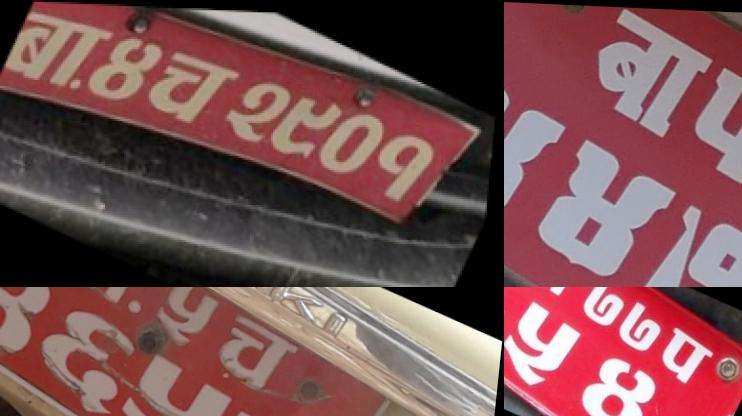0: (316, 92, 394, 183)
1: (361, 114, 449, 212)
2: (212, 61, 298, 156)
4: (514, 116, 703, 287), (504, 52, 587, 233), (86, 24, 168, 113), (0, 287, 74, 371), (575, 349, 667, 416)
5: (665, 49, 742, 197), (105, 338, 247, 416), (504, 296, 589, 395), (140, 287, 233, 354)
6: (20, 287, 161, 416)
7: (628, 183, 742, 287), (615, 298, 670, 353), (578, 287, 632, 327)
9: (264, 80, 346, 175), (195, 391, 337, 416)
ba: (561, 3, 728, 147), (2, 0, 120, 105), (41, 287, 168, 316), (509, 287, 589, 300)
cha: (202, 299, 312, 403), (141, 35, 242, 138)
pa: (651, 322, 720, 389)
